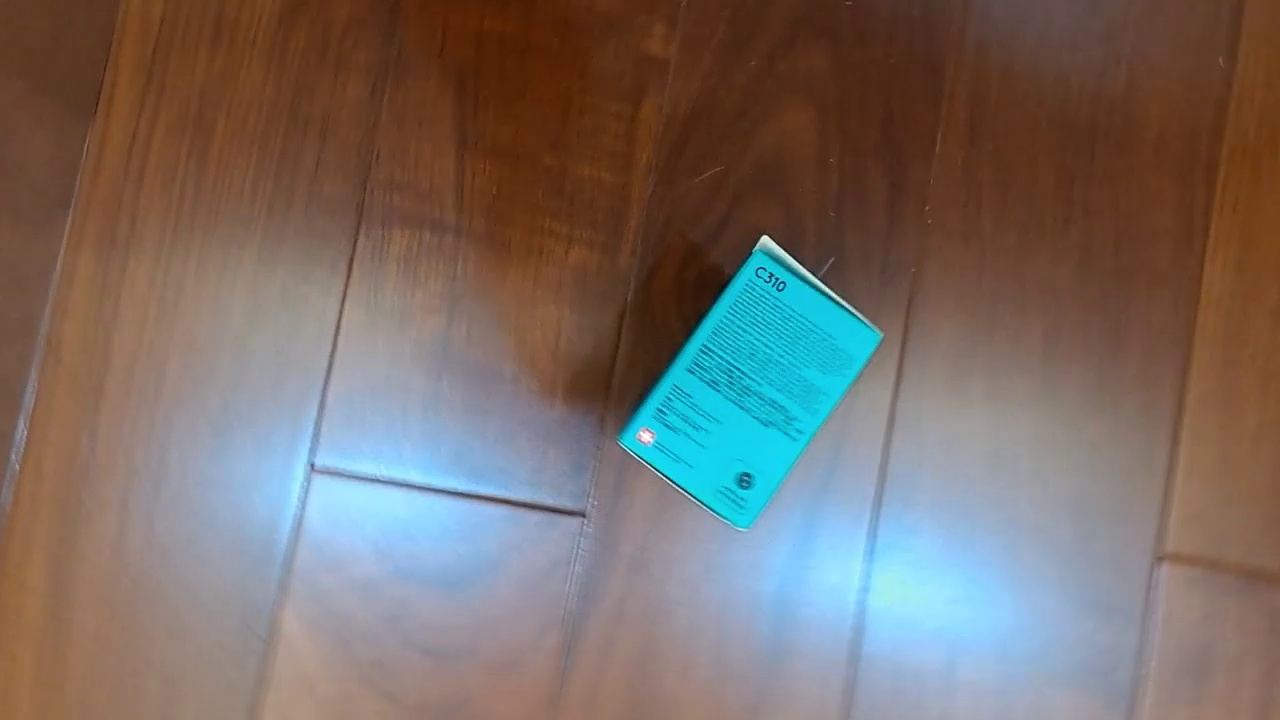webcam: (613, 231, 890, 535)
